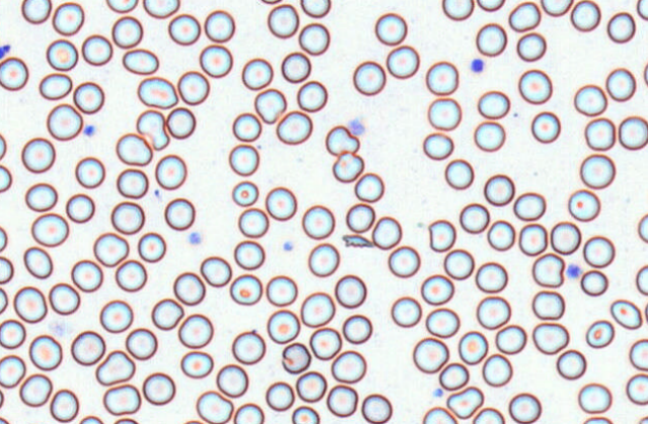PLT: (468, 56, 490, 74), (565, 261, 582, 282), (186, 230, 202, 244), (85, 124, 97, 137), (282, 241, 294, 251), (434, 388, 446, 398)
RBC: (95, 349, 135, 385), (46, 103, 83, 140), (136, 109, 169, 150), (137, 76, 178, 109), (412, 337, 449, 373), (275, 109, 312, 145), (31, 212, 69, 247), (579, 153, 615, 189), (13, 285, 47, 323), (300, 291, 335, 327), (93, 232, 129, 267), (115, 132, 152, 166), (195, 390, 233, 423), (102, 383, 141, 415), (70, 330, 105, 365), (178, 313, 213, 348), (475, 295, 511, 329), (330, 349, 366, 383), (28, 334, 62, 370), (518, 68, 552, 104), (21, 137, 55, 173), (446, 386, 483, 419), (532, 321, 569, 354), (154, 153, 187, 190), (231, 329, 265, 364), (266, 309, 300, 344), (301, 204, 335, 239), (352, 60, 386, 95), (99, 299, 133, 333), (110, 200, 144, 234), (385, 45, 419, 79), (531, 252, 564, 287), (425, 60, 458, 95), (254, 88, 286, 124), (19, 373, 52, 407), (573, 83, 607, 116), (51, 1, 84, 35), (427, 97, 461, 130), (307, 242, 339, 277), (177, 70, 209, 105), (267, 3, 299, 38), (151, 297, 184, 330), (142, 372, 175, 405), (114, 259, 147, 292), (70, 259, 103, 292), (582, 235, 615, 268), (45, 38, 78, 71), (567, 188, 600, 221), (374, 12, 407, 45), (199, 44, 232, 77), (216, 363, 248, 397), (325, 124, 359, 156), (173, 271, 205, 305), (334, 274, 366, 308), (475, 22, 507, 56), (265, 186, 297, 220), (457, 330, 488, 365), (577, 382, 612, 413), (125, 327, 157, 360), (309, 327, 341, 360), (387, 245, 420, 277), (475, 261, 508, 293), (48, 282, 80, 315), (111, 15, 143, 48), (229, 273, 262, 305), (298, 22, 330, 55), (167, 13, 200, 45), (72, 81, 104, 114), (241, 57, 273, 90), (203, 9, 235, 42), (425, 307, 459, 338), (481, 353, 512, 387), (371, 215, 402, 249), (420, 274, 454, 305), (605, 67, 636, 101), (618, 115, 648, 150), (295, 370, 327, 402), (265, 274, 297, 306), (473, 120, 505, 152), (326, 384, 357, 417), (508, 392, 541, 423), (508, 1, 541, 32), (550, 221, 581, 254), (165, 106, 196, 139), (483, 173, 514, 206), (228, 143, 259, 176), (164, 197, 195, 230), (584, 117, 615, 150), (49, 388, 79, 422), (531, 290, 565, 320), (332, 151, 364, 182), (200, 255, 231, 287), (443, 248, 474, 280), (390, 295, 421, 327), (570, 0, 601, 32), (237, 207, 269, 238), (74, 156, 105, 188), (296, 80, 327, 112), (280, 51, 311, 83), (81, 34, 112, 66), (513, 191, 546, 221), (0, 56, 28, 91), (122, 48, 158, 75), (494, 324, 526, 354), (233, 240, 265, 270), (610, 299, 642, 329), (606, 11, 636, 43), (530, 111, 560, 143), (116, 168, 148, 198), (518, 223, 547, 256), (23, 246, 52, 279), (477, 90, 510, 119), (24, 182, 57, 211), (38, 72, 72, 100), (361, 393, 392, 423), (556, 349, 586, 380), (281, 342, 311, 373), (345, 202, 375, 233), (444, 158, 474, 189), (459, 202, 489, 233), (486, 219, 515, 251), (180, 350, 213, 378), (354, 172, 384, 202), (342, 314, 372, 344), (65, 193, 95, 223), (137, 231, 166, 262), (265, 381, 294, 411), (516, 32, 546, 61), (438, 362, 469, 390), (422, 132, 453, 160), (0, 354, 25, 388), (585, 319, 614, 348), (232, 112, 261, 141), (0, 318, 25, 349), (580, 269, 608, 296), (21, 0, 51, 24), (625, 373, 647, 405), (231, 180, 258, 206), (142, 0, 179, 18), (441, 0, 474, 20), (233, 402, 264, 423), (422, 406, 457, 423), (629, 338, 647, 370), (299, 0, 330, 18), (472, 406, 504, 423), (540, 0, 573, 16), (291, 405, 319, 423), (105, 0, 138, 13), (0, 255, 13, 284), (635, 264, 647, 295), (0, 164, 12, 192), (476, 0, 505, 11), (637, 212, 647, 243), (636, 0, 647, 20), (582, 416, 613, 423), (0, 287, 8, 314), (78, 415, 104, 423), (0, 225, 7, 251), (0, 132, 6, 159), (113, 417, 139, 423), (643, 61, 648, 86), (182, 419, 205, 424), (257, 0, 283, 4), (644, 300, 648, 323), (0, 388, 4, 408), (637, 415, 647, 423), (0, 416, 9, 423)
Schistocyte: (428, 220, 457, 253), (341, 233, 374, 251)
